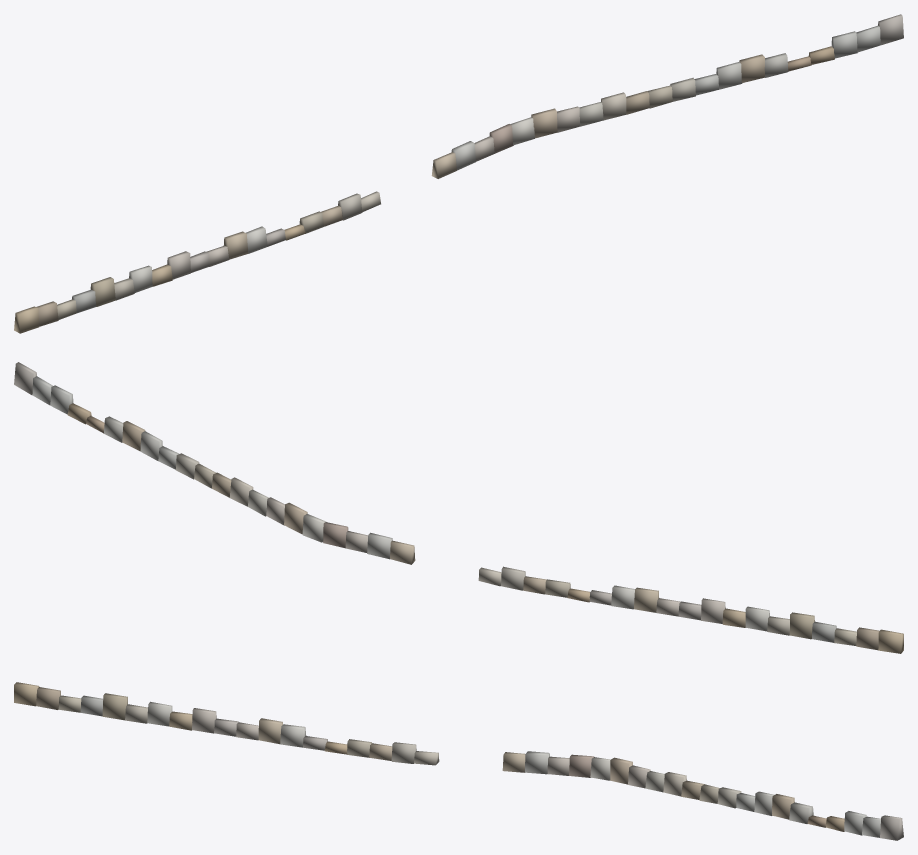
File: farm_15_13_far.glb
3 renders of one model, top to bottom at view 1: azimuth 30°, elevation 25°; view 2: azimuth 150°, elevation 25°; view 3: azimuth 330°, elevation 25°, orthographic. The views are drawn at different scales.
Parts seen in each view (by area): view 1: geometry_0; view 2: geometry_0; view 3: geometry_0.
Boxes of the visible parts, x1,y1,x2,y2 form: geometry_0: (14, 14, 903, 333); geometry_0: (14, 362, 903, 653); geometry_0: (14, 682, 903, 840).
Size of the model in its own units: 67.53 by 6.35 by 7.22.
